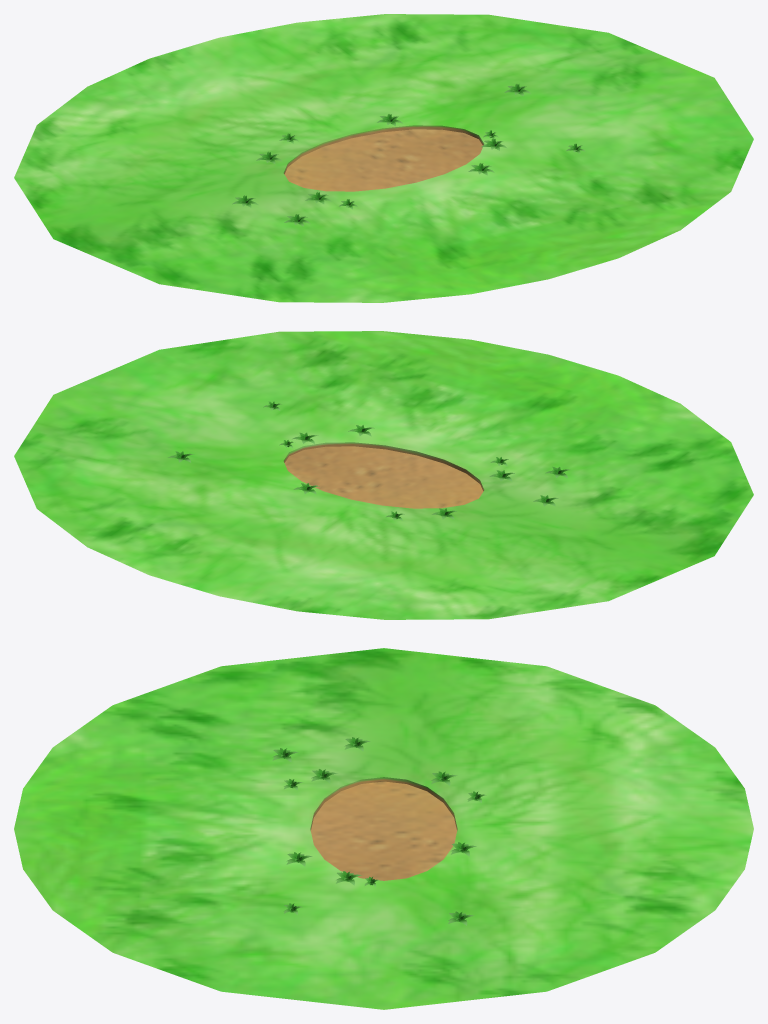
The model's file is stage01.fbx.
The picture shows the model from 3 angles, top to bottom: view 1: azimuth 30°, elevation 25°; view 2: azimuth 150°, elevation 25°; view 3: azimuth 270°, elevation 25°; orthographic projection. The views are drawn at different scales.
Parts seen in each view (by area): view 1: stage; view 2: stage; view 3: stage.
Part boxes in pixels (x1,y1,x2,y2): stage: (14, 14, 753, 302); stage: (14, 331, 753, 619); stage: (14, 648, 753, 1009).
Size of the model in its own units: 87.05 by 1.23 by 75.25.
